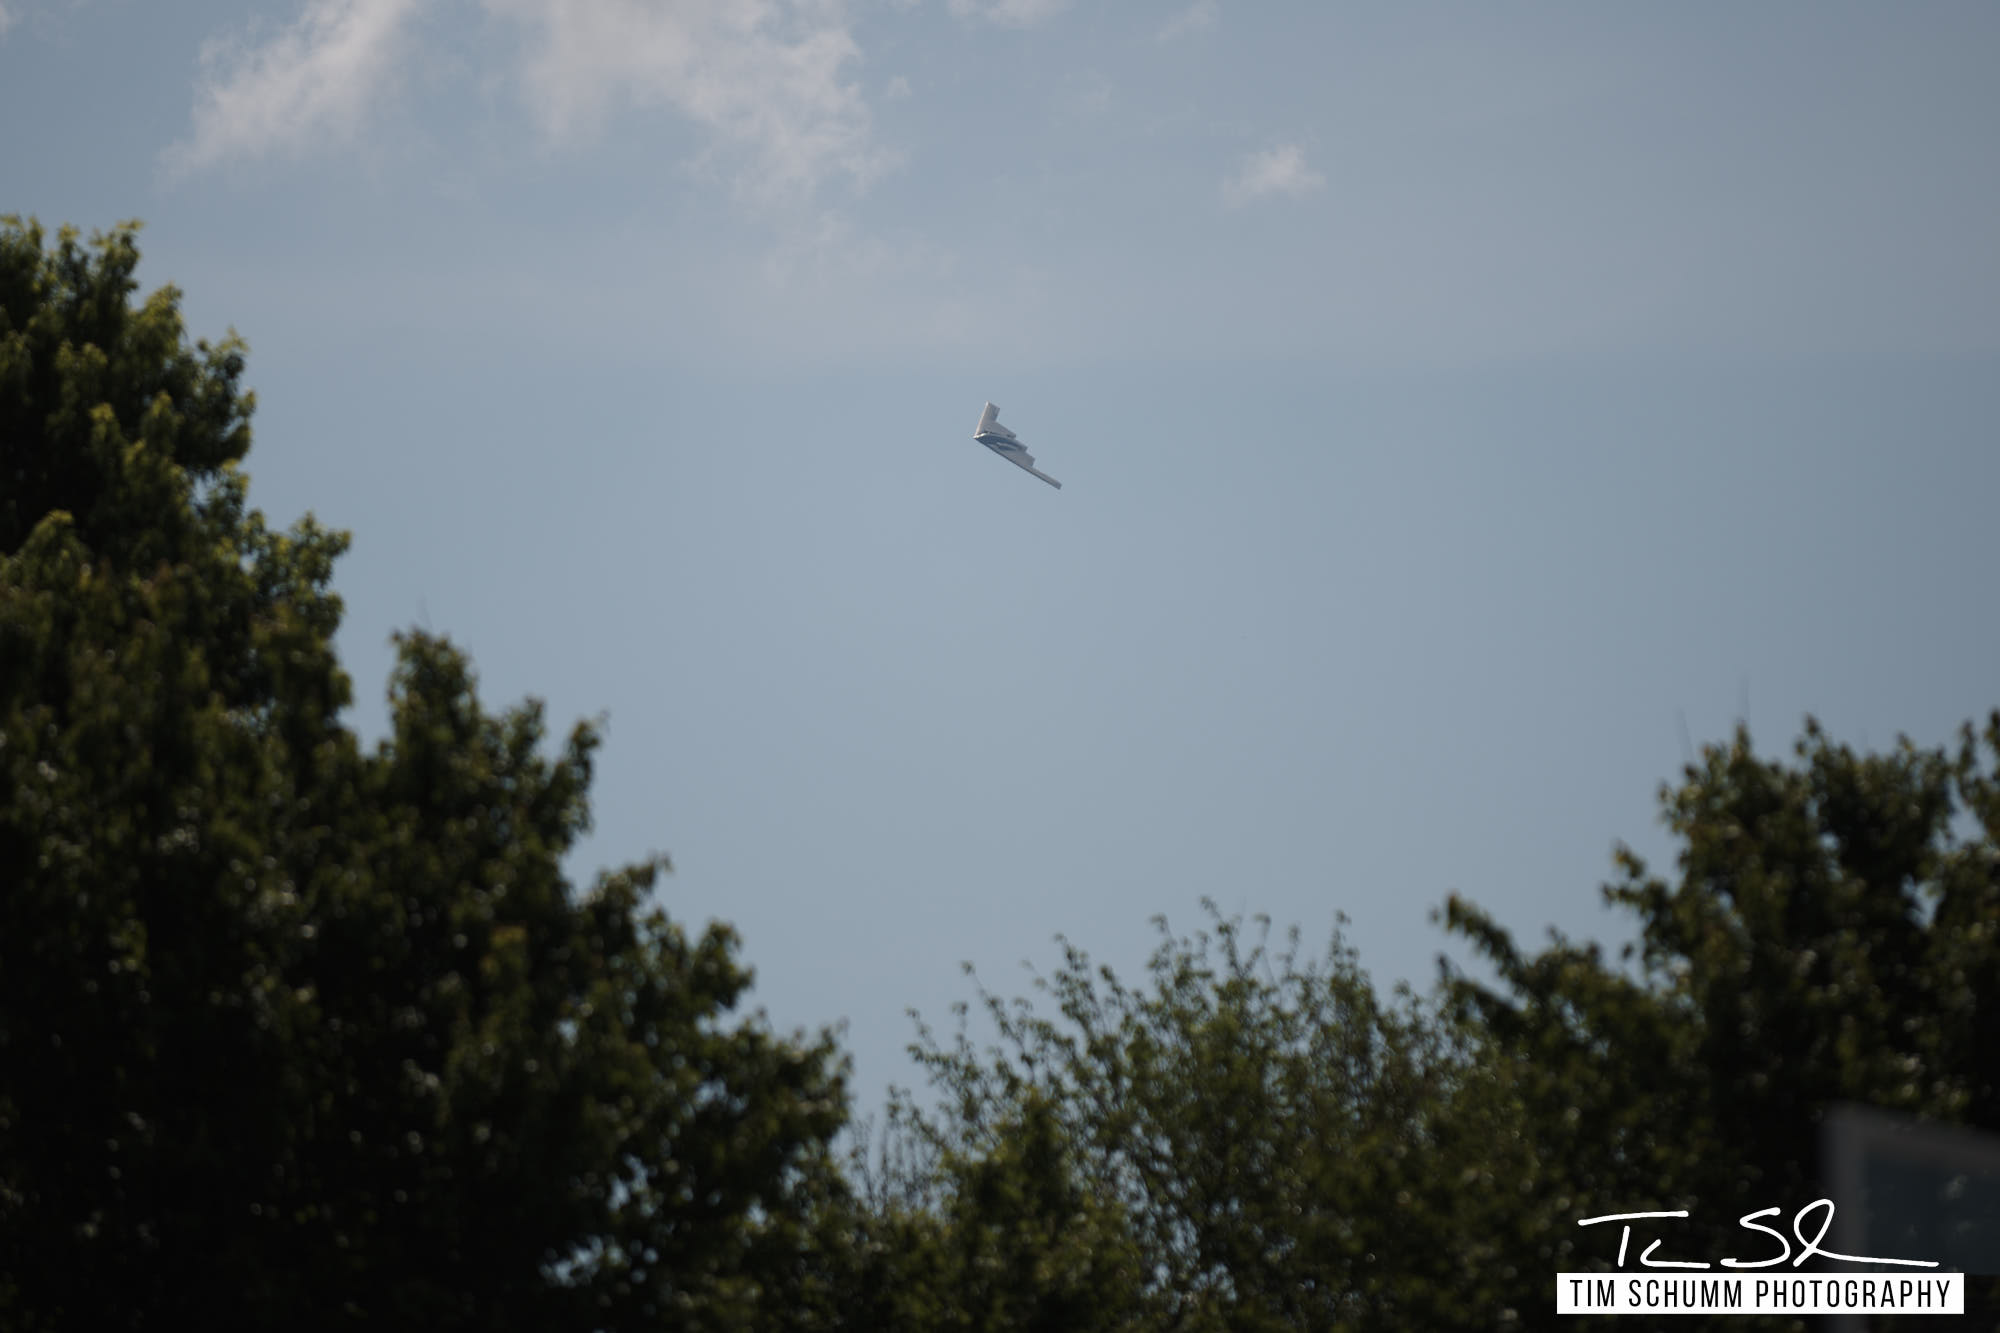B2: (971, 400, 1063, 491)
